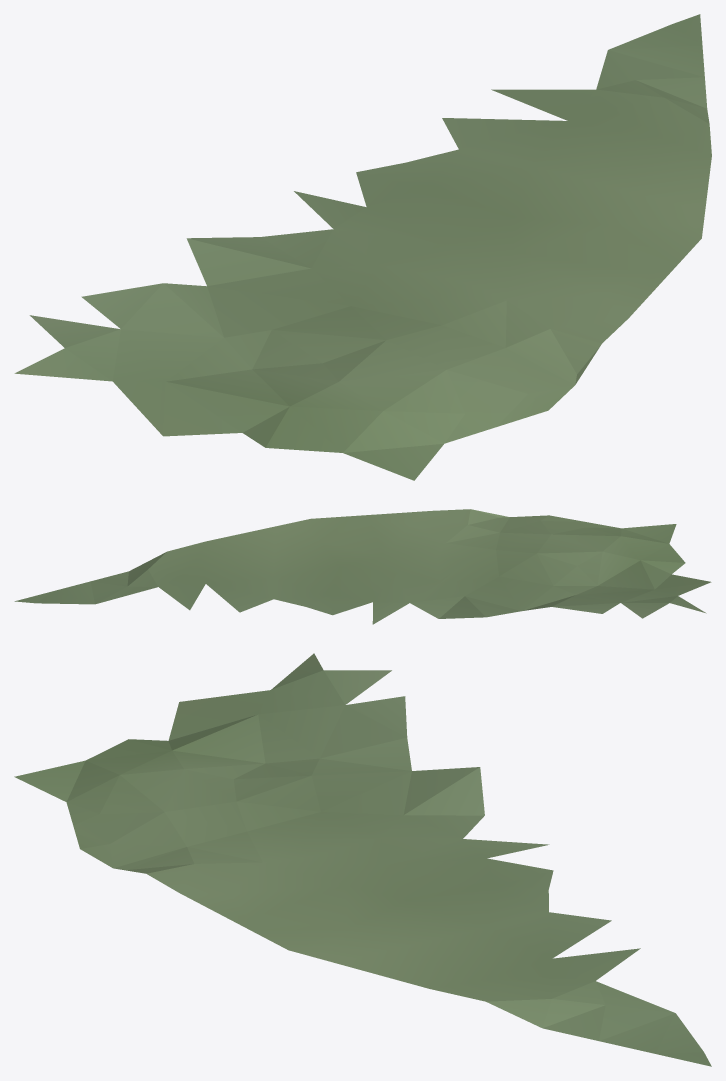
The picture shows the model from 3 angles, top to bottom: view 1: azimuth 30°, elevation 25°; view 2: azimuth 150°, elevation 25°; view 3: azimuth 270°, elevation 25°; orthographic projection. The views are drawn at different scales.
Parts seen in each view (by area): view 1: 福建岩岸; view 2: 福建岩岸; view 3: 福建岩岸.
Boxes of the visible parts, bbox=[...] form: 福建岩岸: bbox=[14, 14, 711, 480]; 福建岩岸: bbox=[14, 509, 711, 624]; 福建岩岸: bbox=[14, 653, 711, 1066].
Bounding box in the file's own units: 8.32 × 0.3829 × 6.38.
